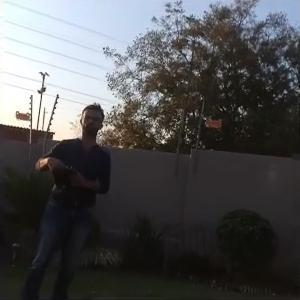follow: (14, 95, 114, 298)
